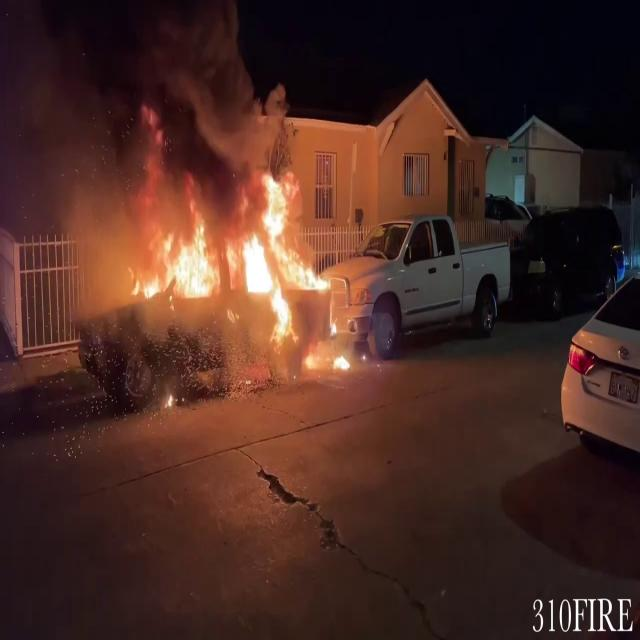Fire: (135, 167, 337, 349)
Smoke: (1, 0, 272, 233)
